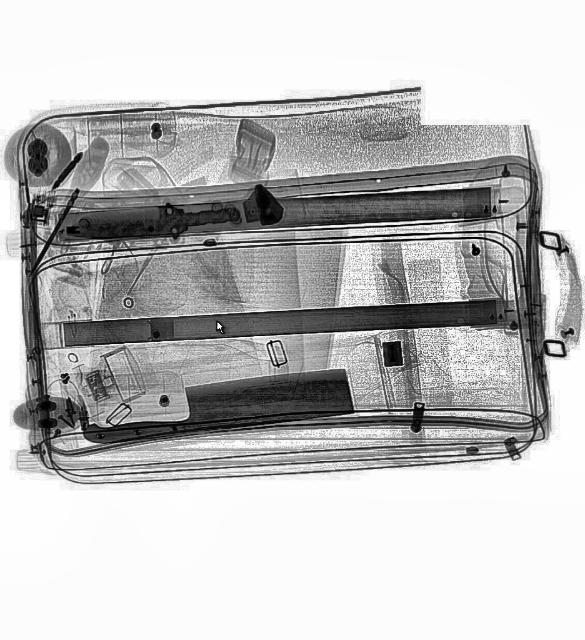Knife: (78, 363, 354, 449), (61, 197, 237, 245)
